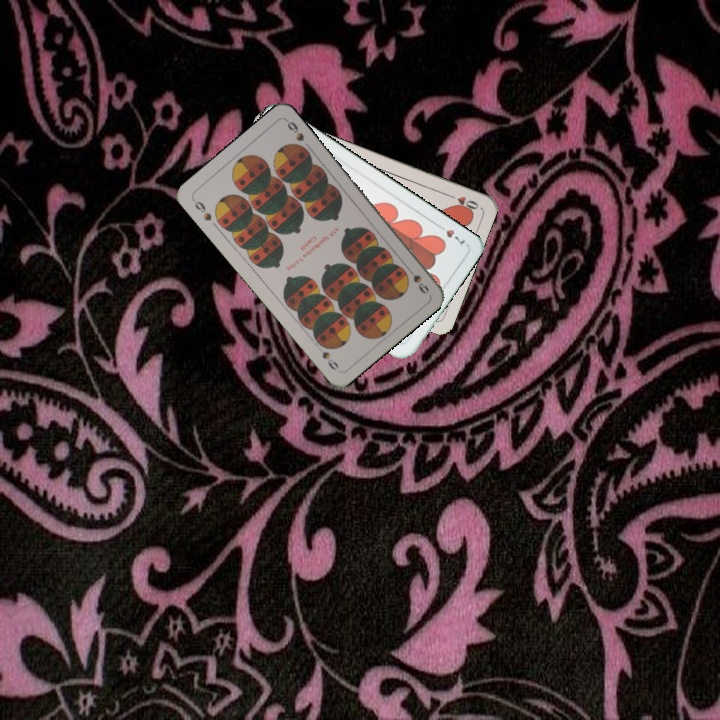H7: (433, 220, 468, 247)
HO: (443, 190, 481, 213)
S9: (402, 262, 432, 297), (188, 195, 214, 224)
